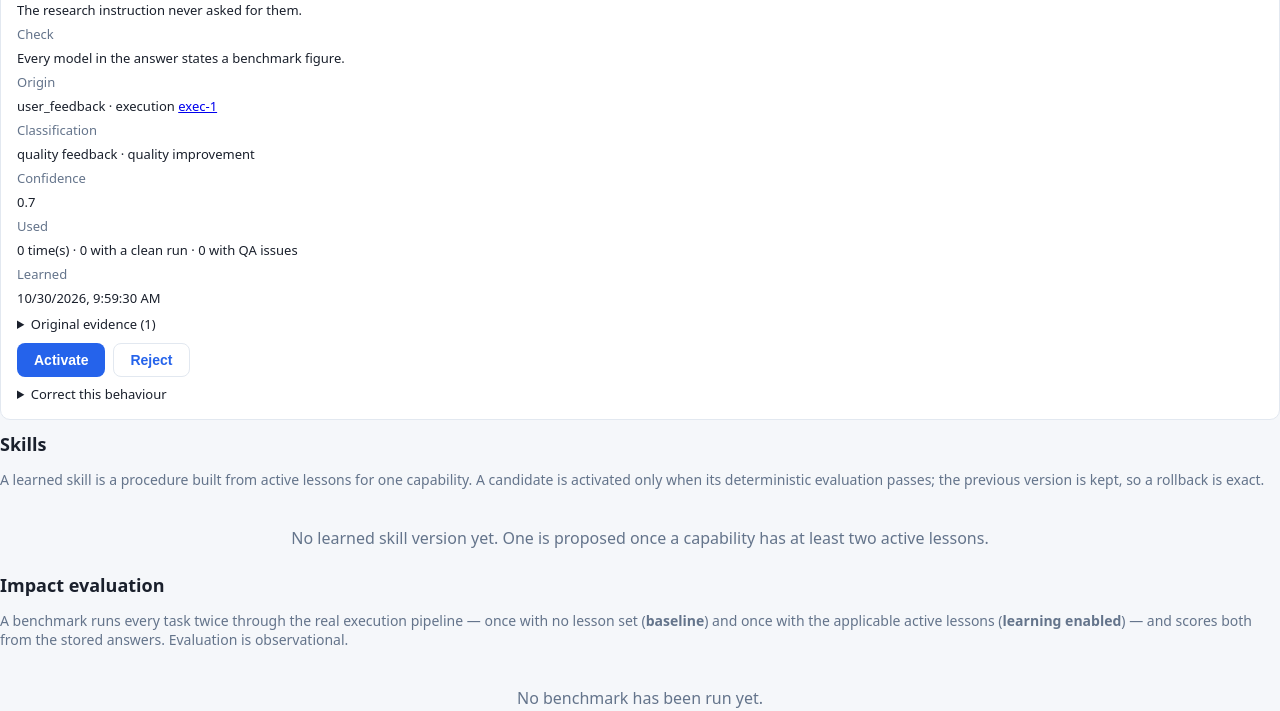
Learning page › activates a candidate through the review endpoint
(page scrolled)
Click the button "Activate". click: (61, 360)
box: [17,343,106,377]
(page scrolled)
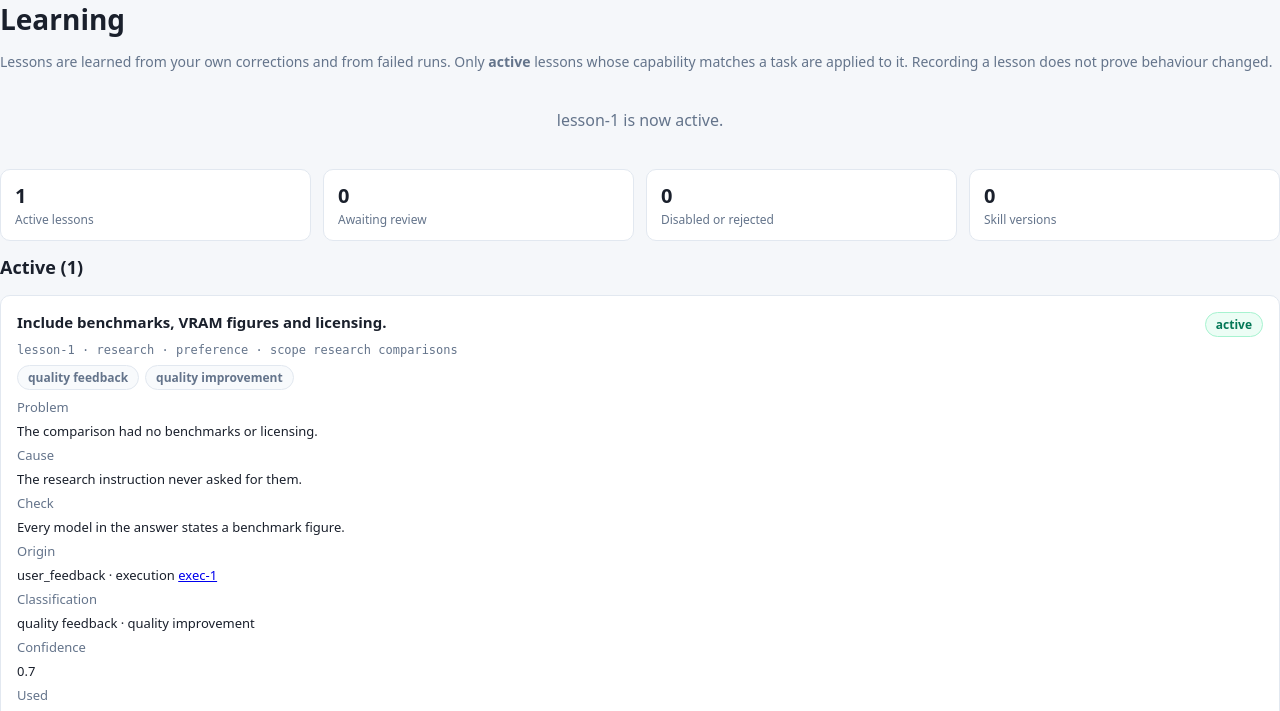
expect the text "lesson-1 is now active." is shown: met, box [557,109,723,131]
